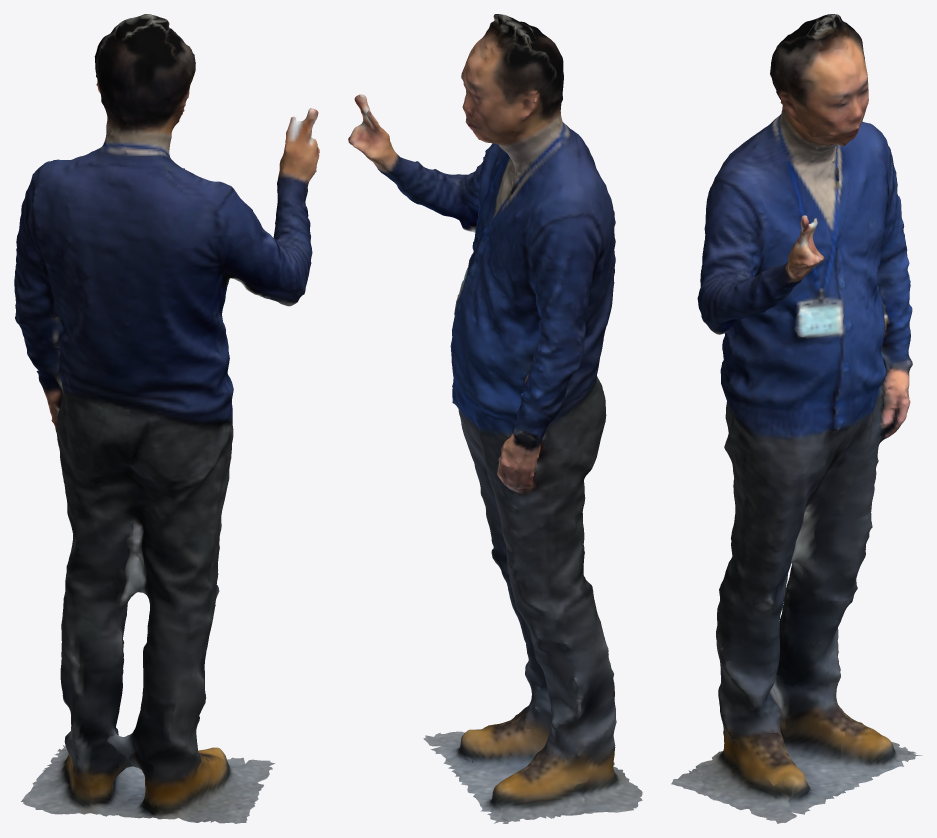
3 views of the same model, side by side, from view 1: azimuth 30°, elevation 25°; view 2: azimuth 150°, elevation 25°; view 3: azimuth 270°, elevation 25° (orthographic).
Visible parts, largest first — view 1: mesh; view 2: mesh; view 3: mesh.
Part boxes in pixels (x1=…): mesh: x1=14, y1=14, x2=319, y2=823; mesh: x1=348, y1=14, x2=642, y2=823; mesh: x1=671, y1=14, x2=922, y2=823.
Bounding box in the file's own units: 0.7095 × 1.77 × 0.5331.
Materials: 1 (1 with a texture image).
